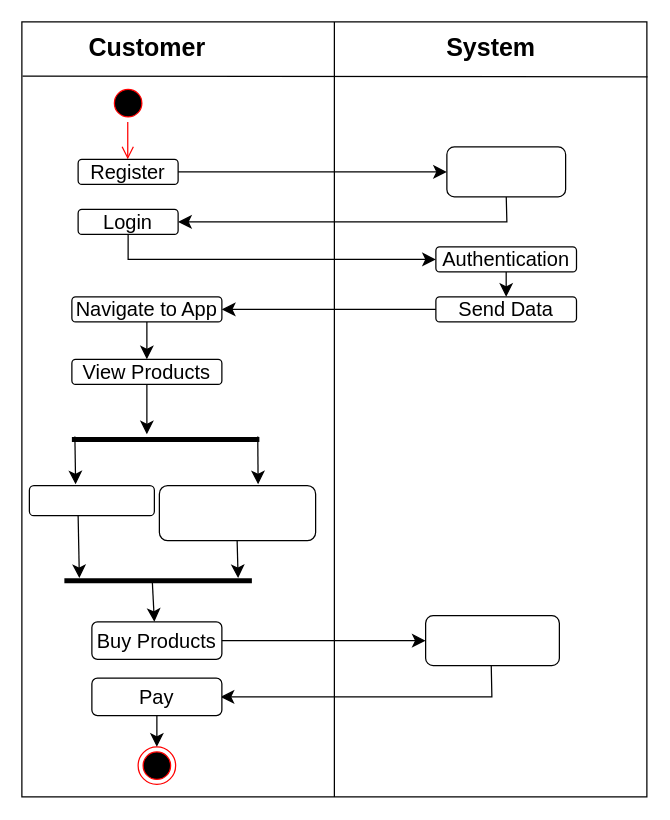
This 670x820 diagram has some shape labels left out. The centre of each missing label's shape, as x and y in pixels:
"All Products" goes at pixel 91 500.
"Ask for Payment" goes at pixel 491 640.
"Create Account" goes at pixel 506 171.
"Seasonal products" goes at pixel 237 512.
